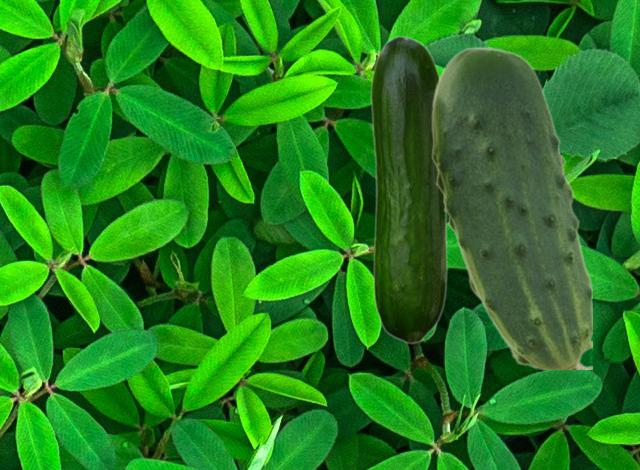cucumber: (431, 46, 591, 368), (370, 35, 447, 343)
